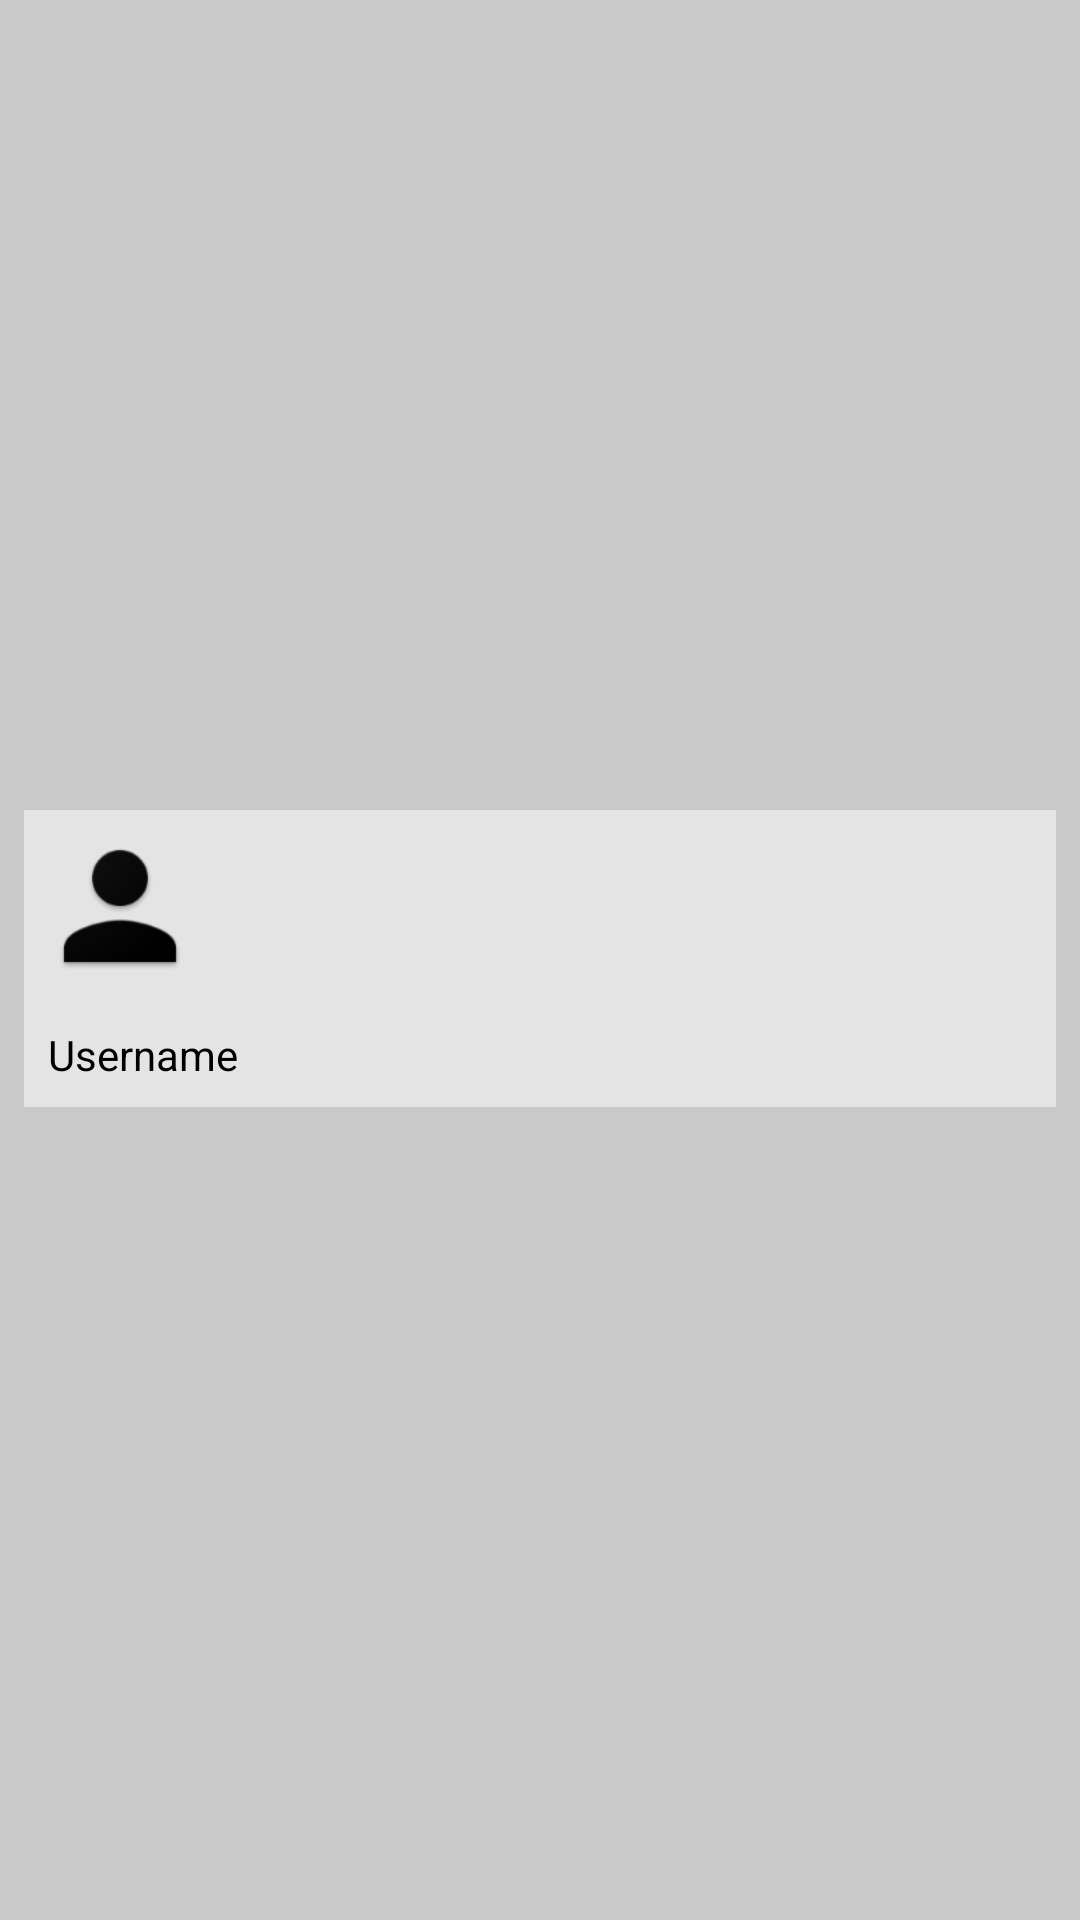

Icons on this 1080x1920 Android screen, each with its box as box(x1, y1, x2, y2):
user photo: box(63, 849, 178, 966)
